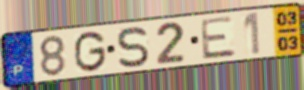1: (241, 10, 262, 58)
2: (156, 19, 189, 67)
8: (37, 33, 68, 78)
E: (198, 15, 238, 62)
G: (73, 29, 108, 74)
S: (116, 25, 151, 70)
